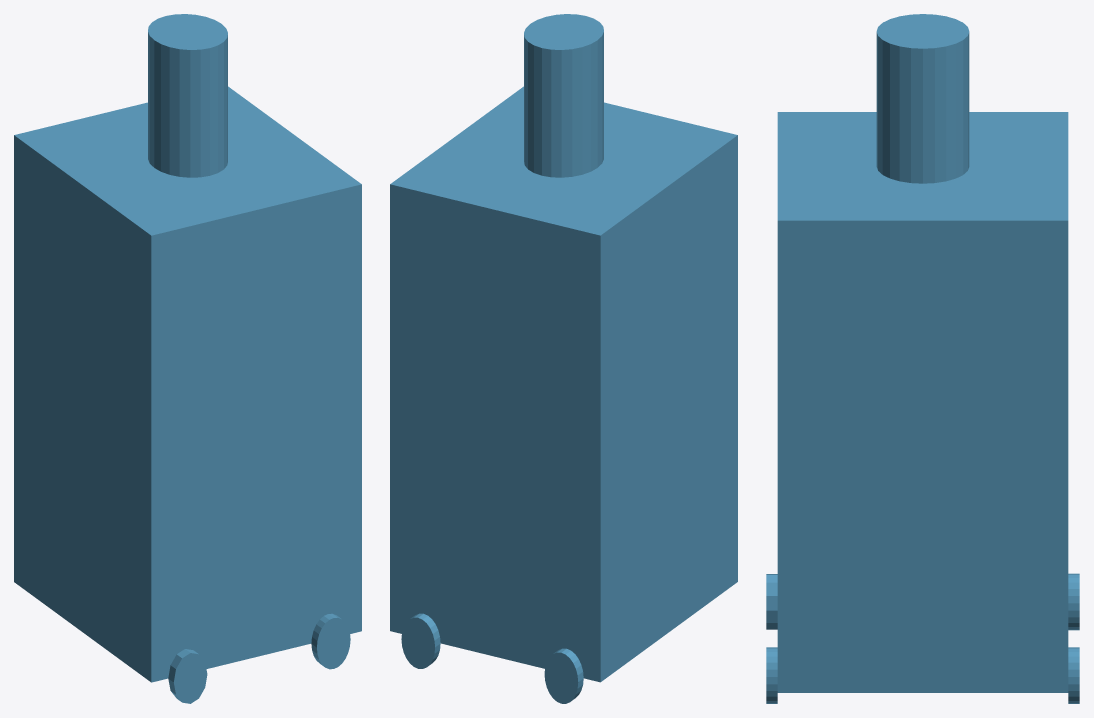
File: pr_bleu-old.dae
3 views of the same model, side by side, from view 1: azimuth 30°, elevation 25°; view 2: azimuth 150°, elevation 25°; view 3: azimuth 270°, elevation 25° (orthographic). The views are drawn at different scales.
Parts seen in each view (by area): view 1: Group37; view 2: Group37; view 3: Group37.
Part boxes in pixels (left/top/right/bottom): Group37: left=14, top=14, right=361, bottom=703; Group37: left=390, top=14, right=737, bottom=703; Group37: left=766, top=14, right=1079, bottom=703.
Size of the model in its own units: 0.1843 by 0.225 by 0.5022.
